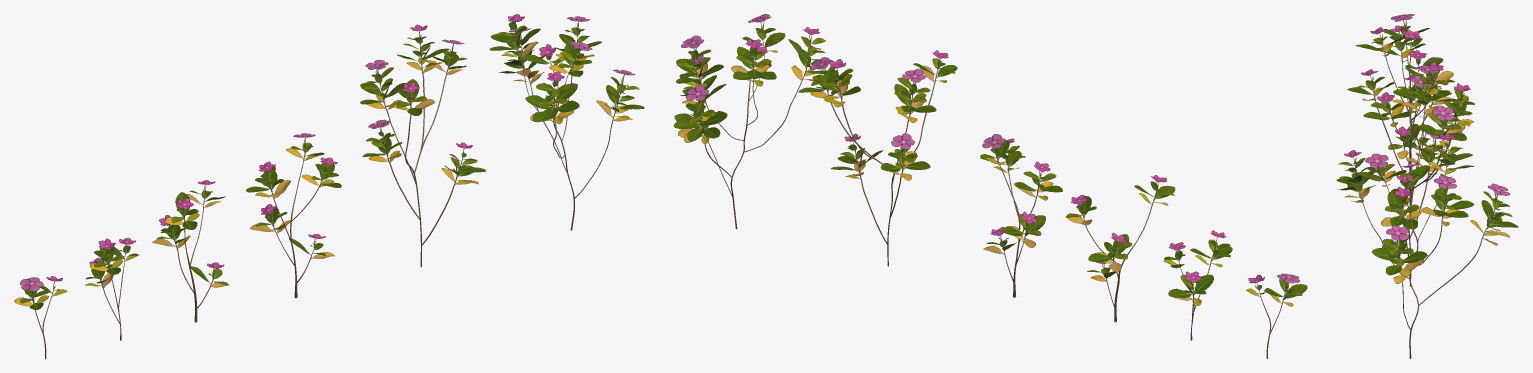
The model's file is periwinkle_plant_1k.glb.
3 views of the same model, side by side, from view 1: azimuth 30°, elevation 25°; view 2: azimuth 150°, elevation 25°; view 3: azimuth 270°, elevation 25° (orthographic). The views are drawn at different scales.
Parts seen in each view (by area): view 1: periwinkle_plant_04_LOD0; view 2: periwinkle_plant_04_LOD0; view 3: periwinkle_plant_04_LOD0.
Boxes of the visible parts, x1,y1,x2,y2 form: periwinkle_plant_04_LOD0: [14, 14, 644, 358]; periwinkle_plant_04_LOD0: [673, 14, 1307, 358]; periwinkle_plant_04_LOD0: [1336, 14, 1518, 358].
Size of the model in its own units: 1.24 by 0.4107 by 0.3208.
Materials: 1 (1 with a texture image).
